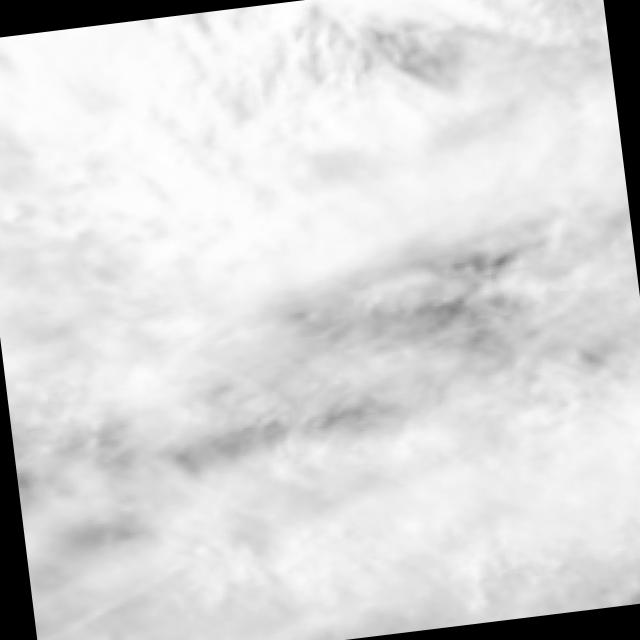CB: (240, 98, 580, 264), (0, 8, 302, 167)
